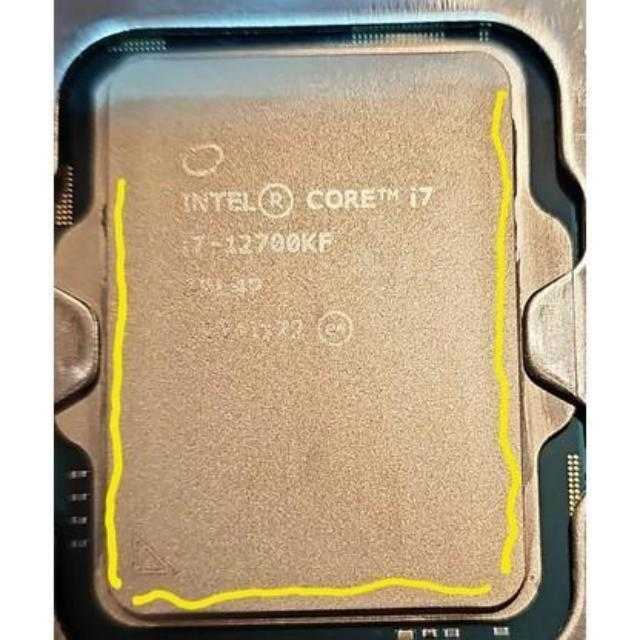CPU: (68, 39, 564, 634)
